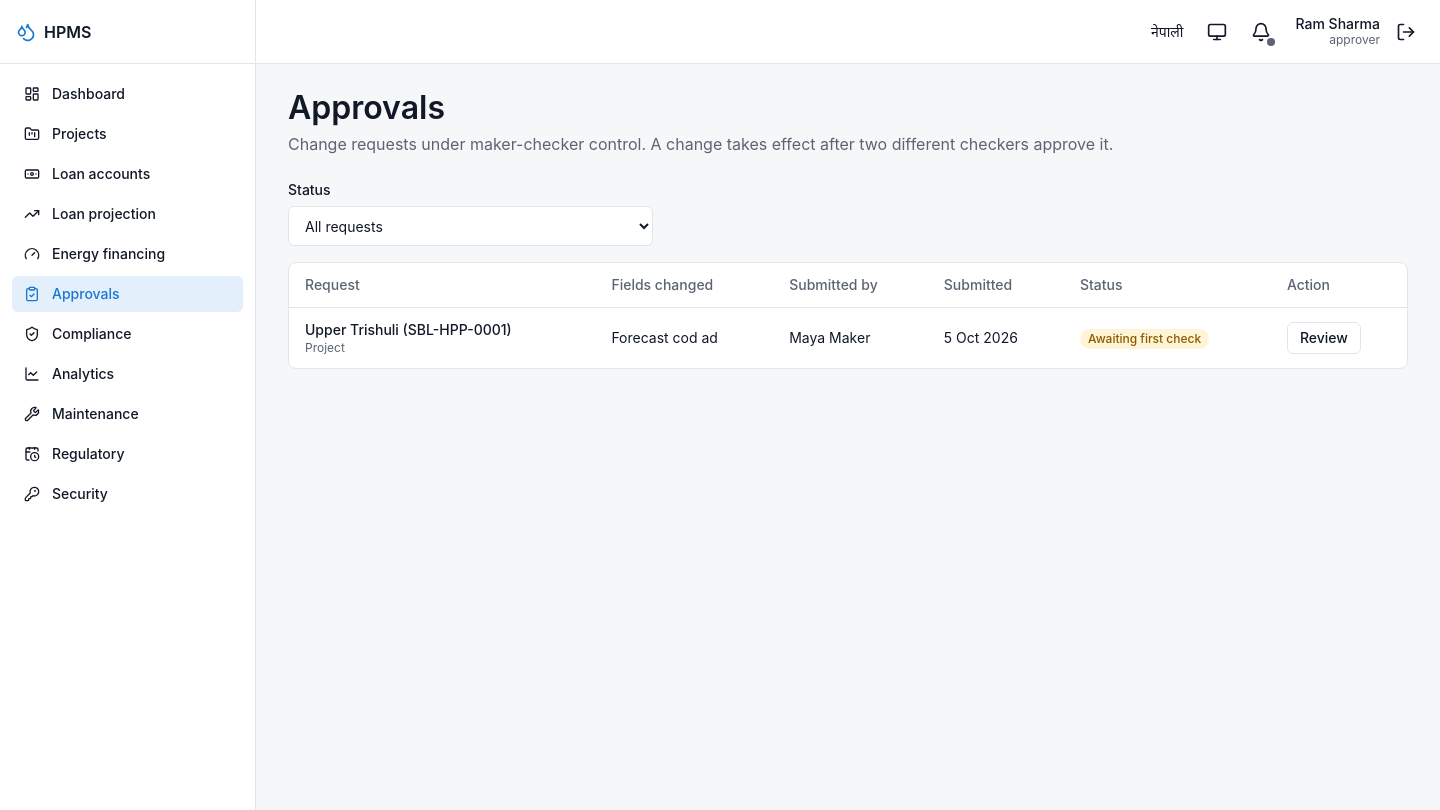
ApprovalQueuePage › shows the proposed change against the value it replaces, and recommends it
The image size is (1440, 810).
Step 1. Click the button "Review" → click(1324, 338), box top-left (1287, 322), bottom-right (1361, 354)
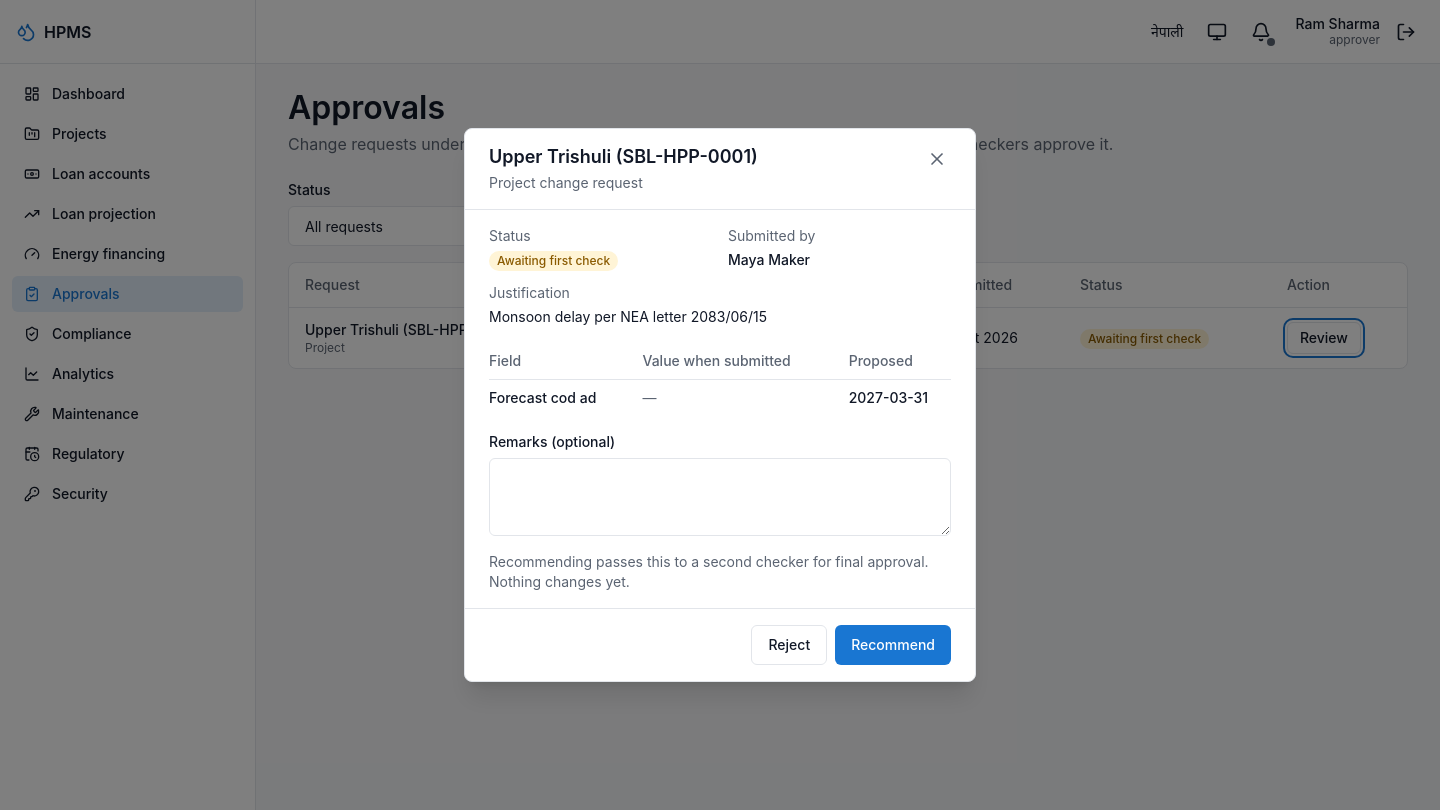
Check: the dialog "Upper Trishuli (SBL-HPP-0001)" shows "Monsoon delay per NEA letter 2083/06/15", box top-left (489, 308), bottom-right (767, 325)
Check: the row "Forecast cod ad — 2027-03-31" is shown, box top-left (489, 380), bottom-right (951, 416)
Check: the dialog "Upper Trishuli (SBL-HPP-0001)" shows "Nothing changes yet", box top-left (489, 553), bottom-right (929, 590)
Step 2. Type "Checked against the site report" into the text box labelled "Remarks (optional)" → (720, 497), box top-left (489, 458), bottom-right (951, 536)
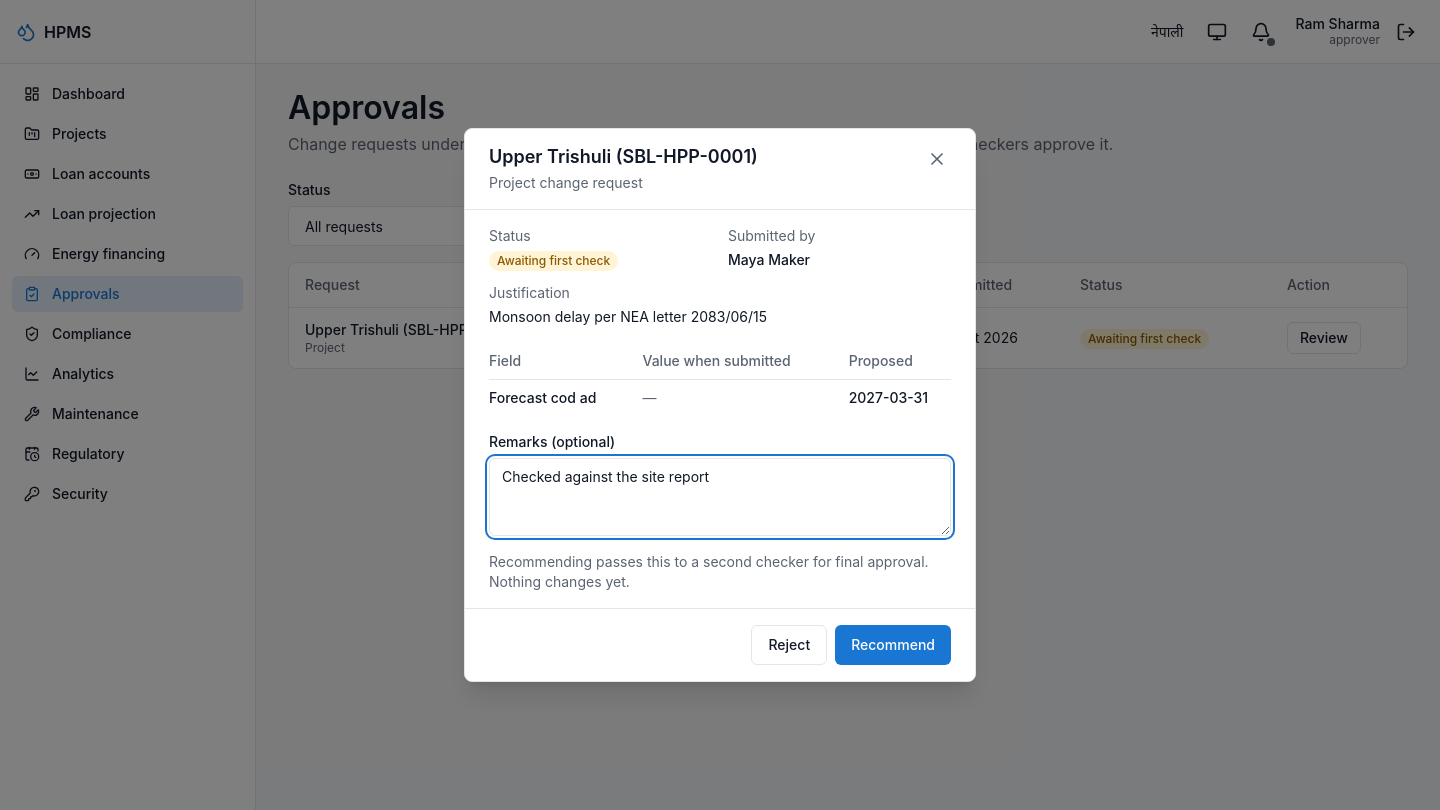
Step 3. Click the button "Recommend" → click(893, 645), box top-left (835, 625), bottom-right (951, 665)
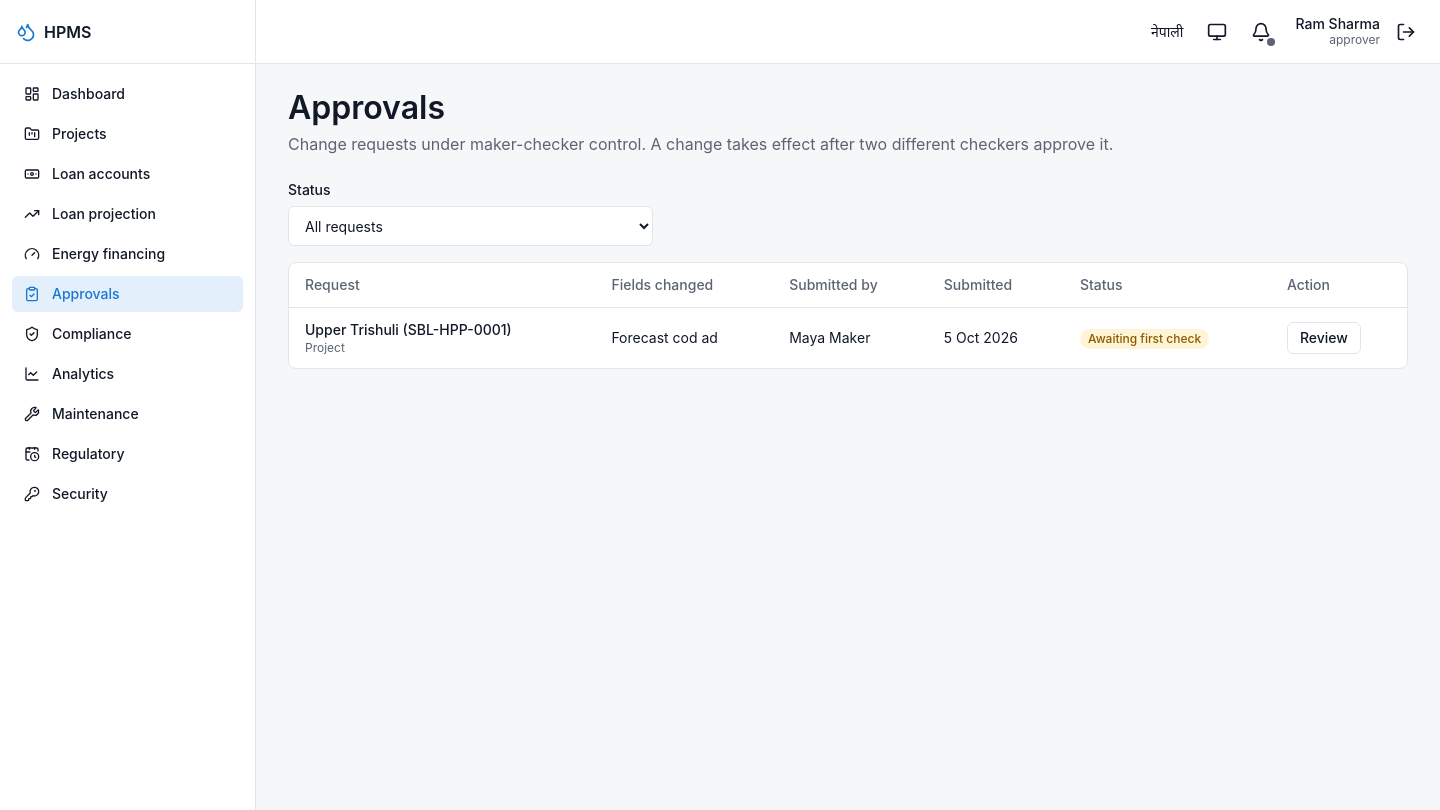
Check: the dialog is gone
